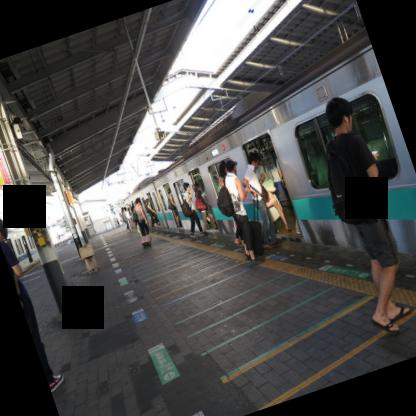backpack: (328, 134, 376, 225), (217, 174, 234, 217), (182, 201, 192, 217), (168, 199, 175, 210)
handbag: (15, 273, 24, 309), (250, 185, 268, 201), (195, 190, 207, 210), (262, 179, 277, 192), (167, 198, 174, 210), (132, 212, 139, 223)
suitcase: (249, 194, 262, 256), (140, 235, 152, 247)
